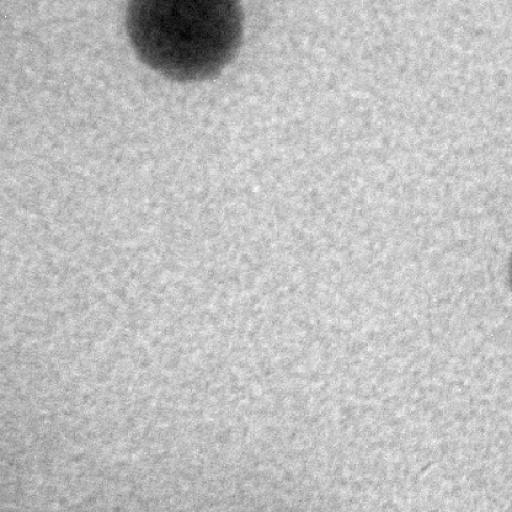Nanoparticles: (125, 1, 246, 90)
